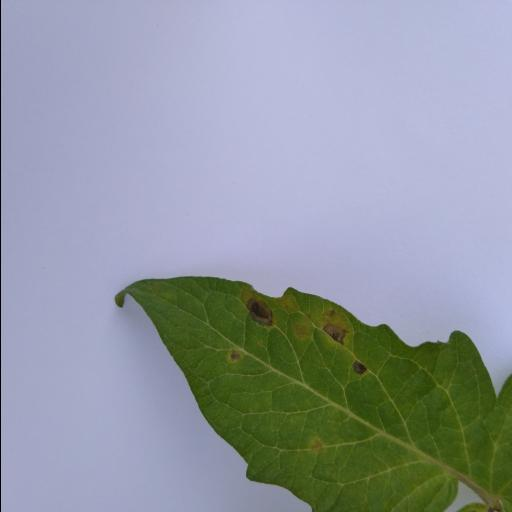Early Blight: (110, 272, 512, 512)
